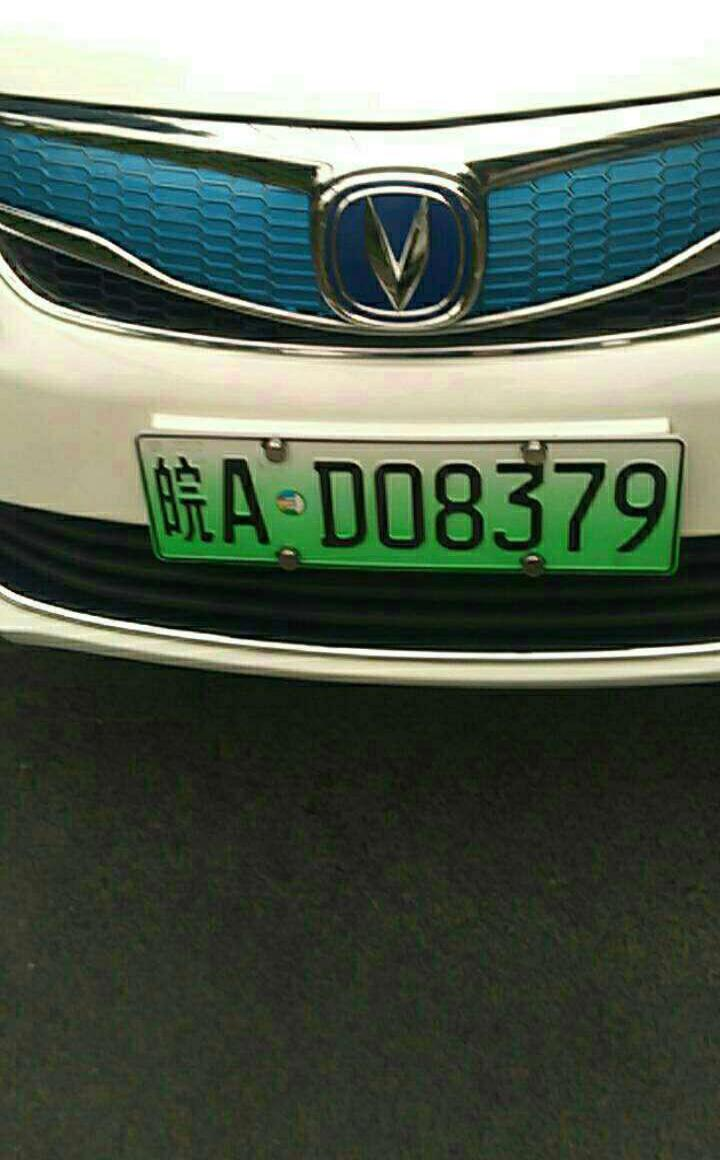car: (136, 429, 677, 577)
